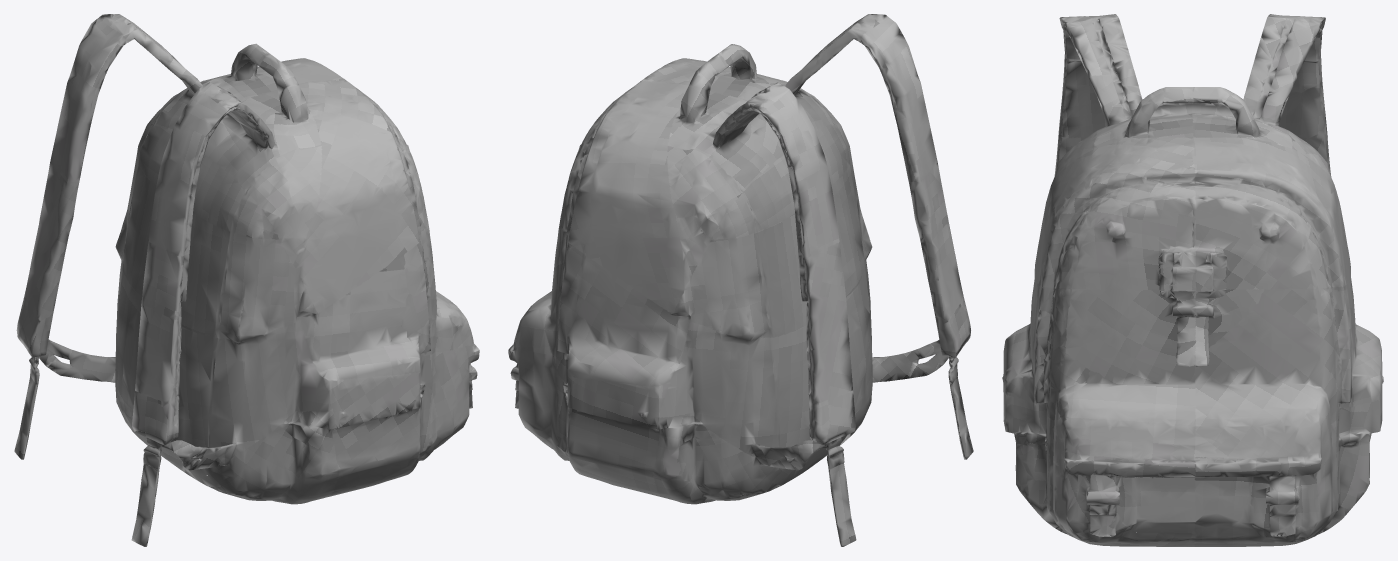
File: l_backpack.glb
3 renders of one model, left to right at view 1: azimuth 30°, elevation 25°; view 2: azimuth 150°, elevation 25°; view 3: azimuth 270°, elevation 25°, orthographic. The views are drawn at different scales.
Parts seen in each view (by area): view 1: tripo_node_caa56857-b991-441f-81af-73704fabbc78; view 2: tripo_node_caa56857-b991-441f-81af-73704fabbc78; view 3: tripo_node_caa56857-b991-441f-81af-73704fabbc78.
Part boxes in pixels (x1,y1,x2,y2): tripo_node_caa56857-b991-441f-81af-73704fabbc78: [14, 14, 479, 546]; tripo_node_caa56857-b991-441f-81af-73704fabbc78: [508, 14, 973, 546]; tripo_node_caa56857-b991-441f-81af-73704fabbc78: [1002, 14, 1383, 546].
Bounding box in the file's own units: 0.8667 × 0.9997 × 0.789.
Materials: 1 (1 with a texture image).
